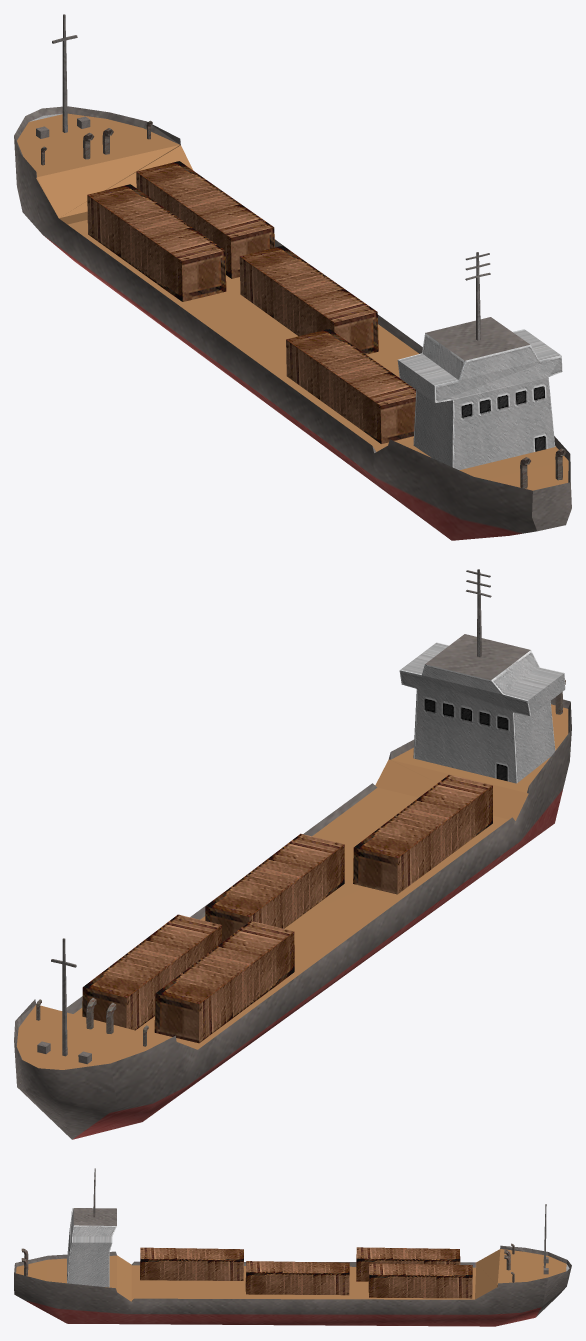
The model's file is barge.FBX.
3 renders of one model, top to bottom at view 1: azimuth 30°, elevation 25°; view 2: azimuth 150°, elevation 25°; view 3: azimuth 270°, elevation 25°, orthographic. The views are drawn at different scales.
Parts seen in each view (by area): view 1: barge; view 2: barge; view 3: barge.
Boxes of the visible parts, x1,y1,x2,y2 form: barge: (14,14,571,540); barge: (14,569,571,1139); barge: (14,1168,571,1326).
Size of the model in its own units: 1007 by 1777 by 6064.
